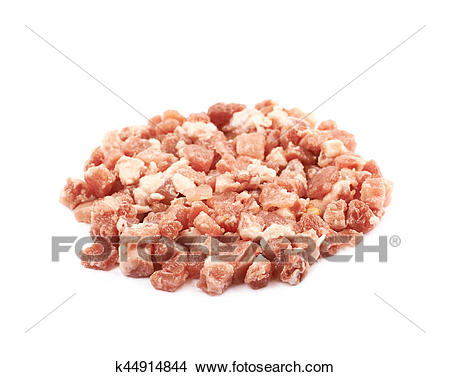bacon: (54, 87, 396, 271)
